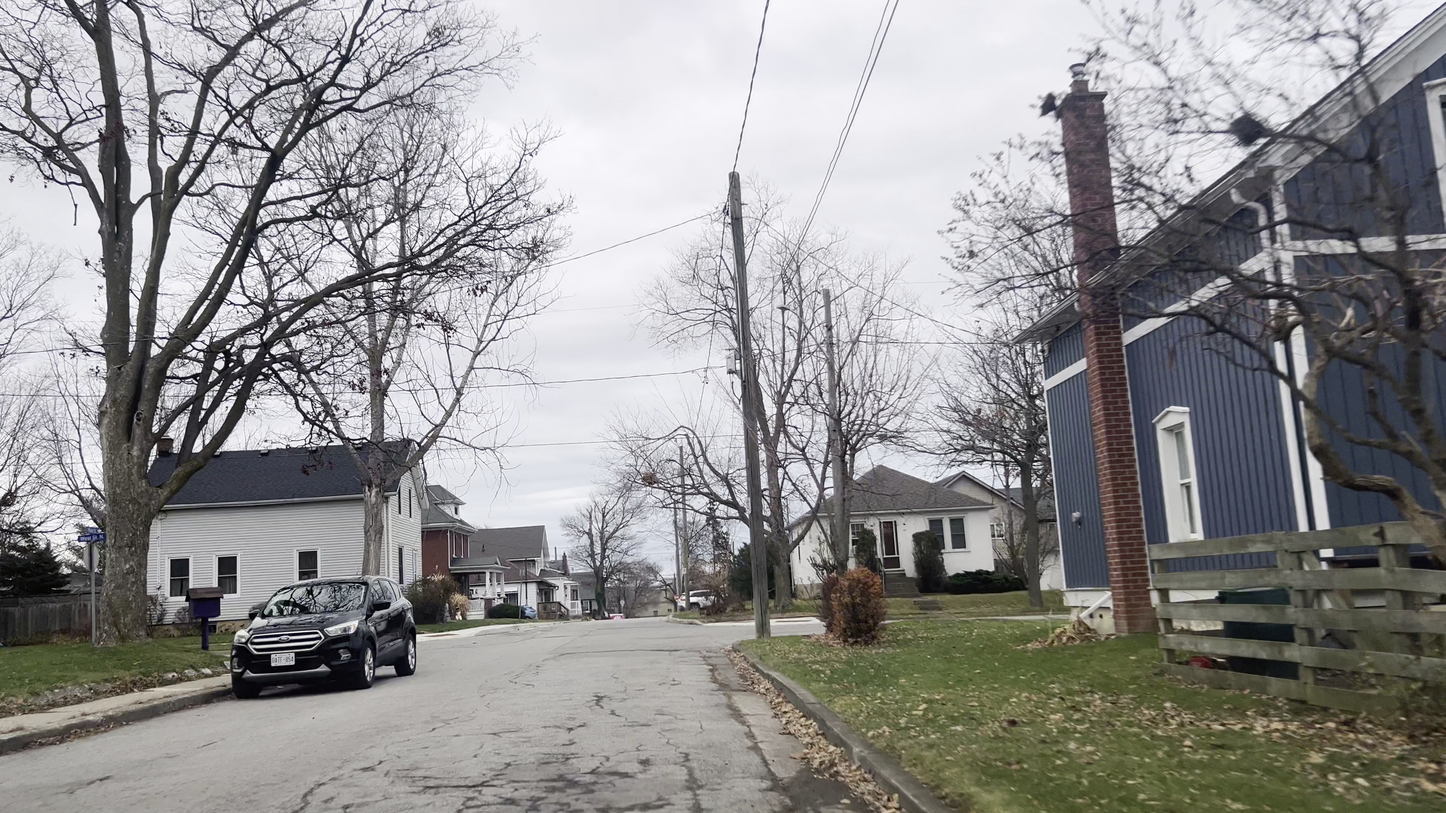cracks: (423, 747, 679, 813), (761, 754, 864, 813)
